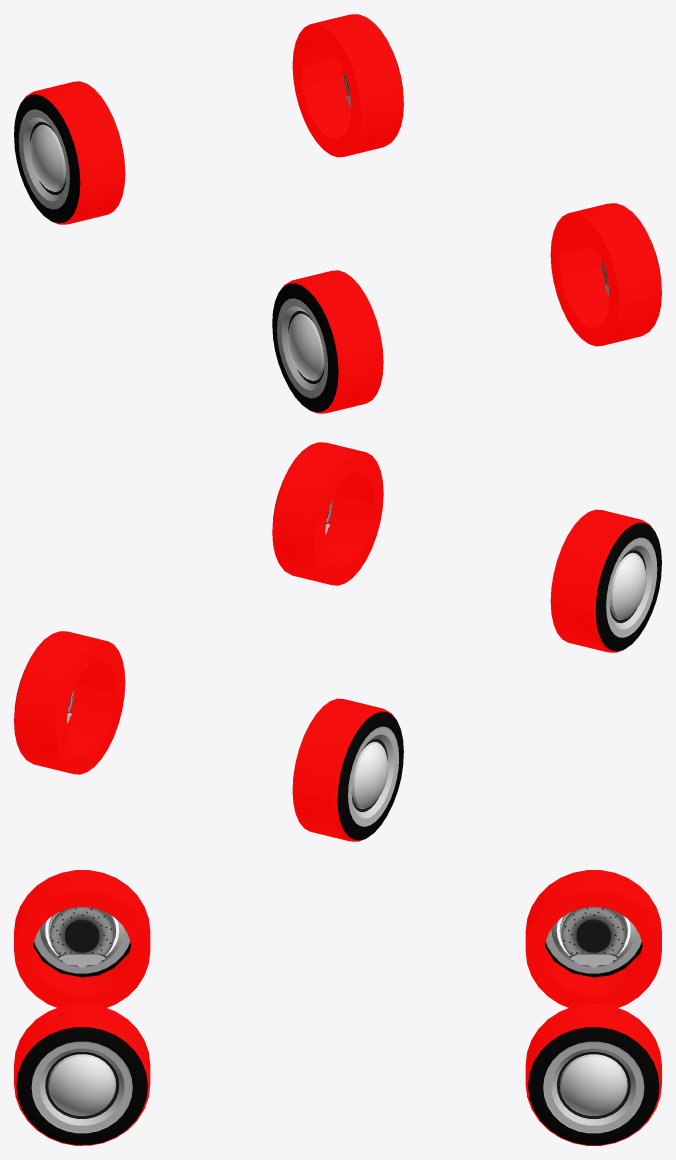
Rendered from 07 Bugatti Chiron.fbx.
3 renders of one model, top to bottom at view 1: azimuth 30°, elevation 25°; view 2: azimuth 150°, elevation 25°; view 3: azimuth 270°, elevation 25°, orthographic.
Parts seen in each view (by area): view 1: Tire__4_, Tire__1_, Tire__3_, Tire__2_, Rims__3_, Rims__2_; view 2: Tire__4_, Tire__1_, Tire__3_, Tire__2_, Rims__2_, Rims__3_; view 3: Tire__3_, Tire__2_, Tire__4_, Tire__1_, Rims__4_, Rims__1_, BrakeDisc_2, BrakeDisc_1, Rims__3_, Rims__2_, Caliper_2, Caliper_1.
Part boxes in pixels (bbox=[...]): Tire__4_: bbox=[292, 14, 403, 157]; Tire__1_: bbox=[550, 203, 661, 346]; Tire__3_: bbox=[14, 81, 125, 224]; Tire__2_: bbox=[272, 270, 383, 413]; Rims__3_: bbox=[18, 109, 69, 209]; Rims__2_: bbox=[277, 298, 327, 398]; Tire__4_: bbox=[14, 631, 125, 774]; Tire__1_: bbox=[272, 442, 383, 585]; Tire__3_: bbox=[292, 698, 403, 841]; Tire__2_: bbox=[550, 509, 661, 652]; Rims__2_: bbox=[606, 537, 657, 637]; Rims__3_: bbox=[348, 726, 398, 826]; Tire__3_: bbox=[525, 870, 661, 1007]; Tire__2_: bbox=[14, 870, 150, 1007]; Tire__4_: bbox=[525, 1004, 661, 1145]; Tire__1_: bbox=[14, 1003, 150, 1145]; Rims__4_: bbox=[543, 1041, 644, 1133]; Rims__1_: bbox=[31, 1041, 132, 1133]; BrakeDisc_2: bbox=[561, 907, 626, 955]; BrakeDisc_1: bbox=[49, 907, 114, 955]; Rims__3_: bbox=[545, 911, 641, 973]; Rims__2_: bbox=[34, 911, 130, 973]; Caliper_2: bbox=[570, 953, 617, 967]; Caliper_1: bbox=[58, 953, 105, 967].
Size of the model in its own units: 196 by 67.44 by 324.
